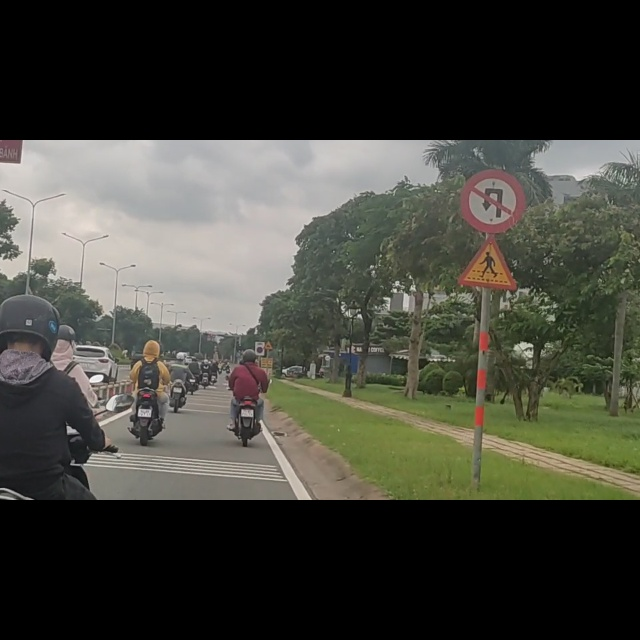bien_hieu_lenh: (459, 51, 526, 167), (461, 169, 518, 265), (257, 367, 263, 378)
